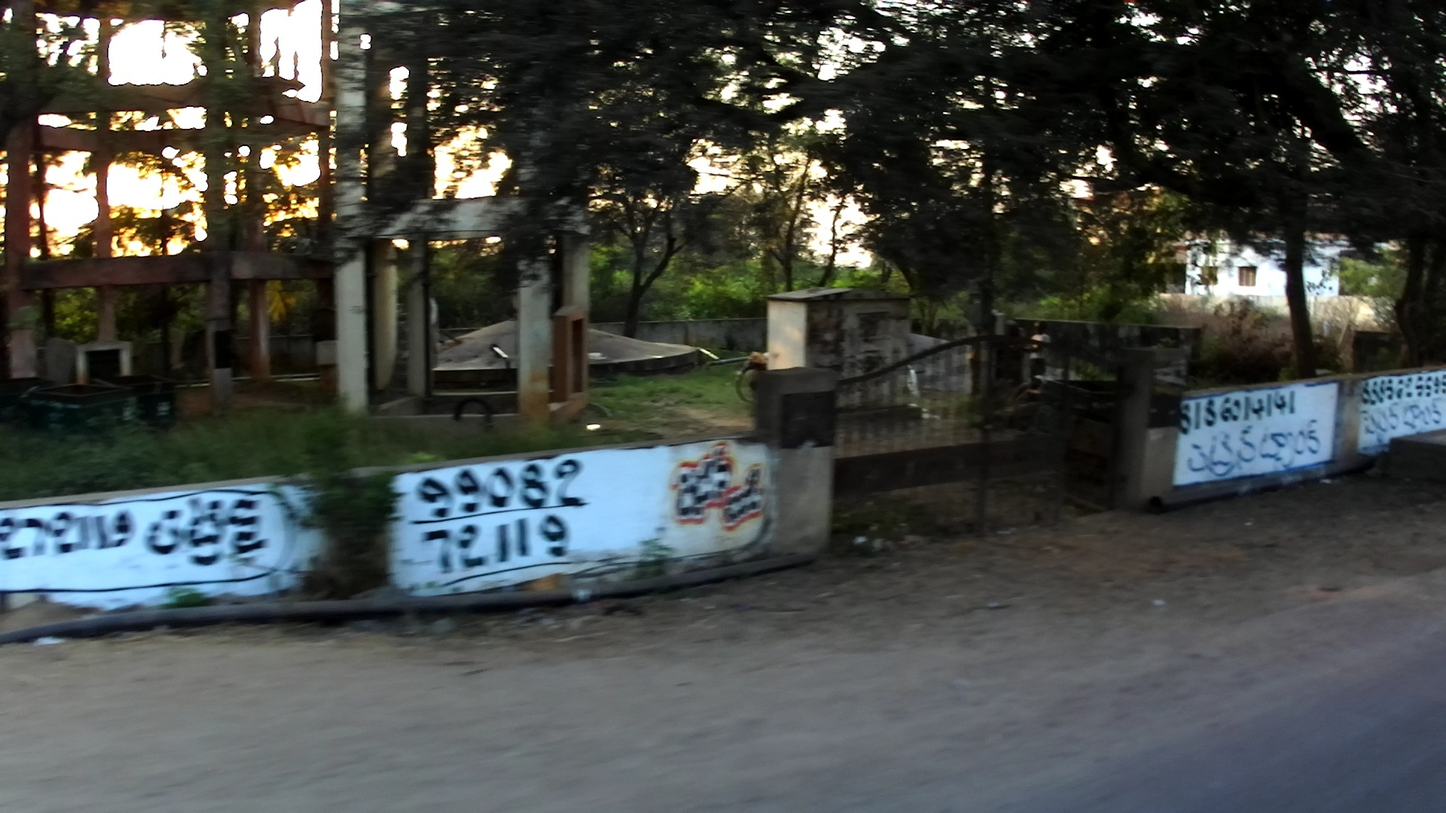bicycle: (734, 352, 768, 407)
person: (1030, 321, 1049, 391)
